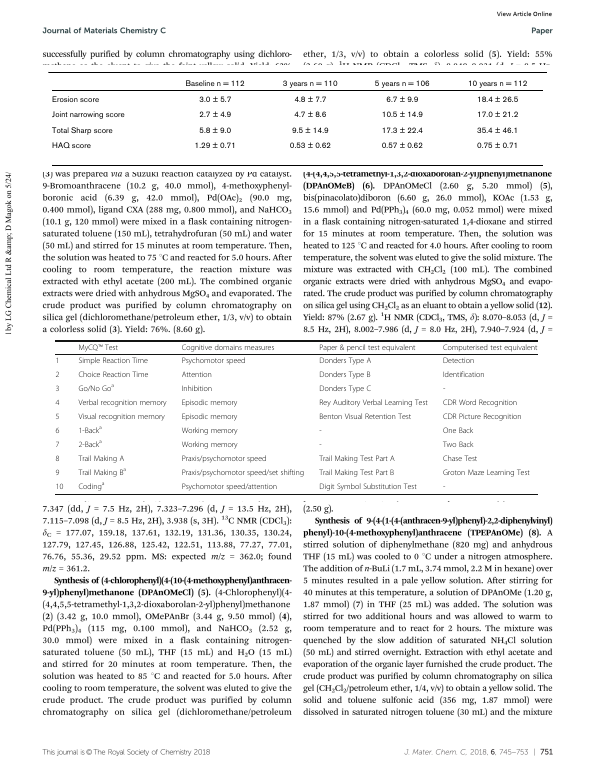borderless: (55, 339, 538, 494), (47, 70, 543, 165)
cell: (181, 468, 305, 478), (318, 398, 429, 408), (318, 482, 418, 492), (181, 482, 278, 492), (318, 412, 412, 422), (77, 398, 167, 408), (77, 412, 166, 422), (442, 468, 531, 478), (318, 343, 416, 352), (442, 343, 538, 352), (181, 454, 267, 464), (181, 343, 275, 352), (442, 412, 523, 422), (318, 454, 396, 464), (318, 468, 395, 478), (442, 398, 518, 408), (50, 111, 125, 121), (77, 356, 149, 366), (77, 370, 149, 380), (181, 356, 246, 366), (50, 126, 113, 136), (466, 79, 528, 89), (184, 79, 245, 89), (77, 466, 127, 478), (181, 426, 239, 436), (181, 440, 239, 450), (181, 398, 238, 408), (181, 412, 238, 422), (281, 79, 338, 89), (373, 79, 430, 89), (318, 356, 372, 366), (318, 384, 372, 394), (318, 370, 371, 380), (50, 95, 99, 105), (77, 454, 125, 464), (77, 382, 115, 394), (475, 95, 519, 105), (475, 111, 519, 121), (475, 126, 519, 136), (475, 142, 519, 152), (442, 370, 485, 380), (380, 111, 423, 121), (380, 126, 423, 136), (193, 142, 236, 152), (288, 142, 331, 152), (380, 142, 423, 152), (50, 142, 91, 152), (290, 126, 329, 136), (77, 343, 119, 352), (442, 454, 478, 464), (198, 95, 232, 105), (293, 95, 327, 105), (385, 95, 419, 105), (198, 111, 232, 121), (293, 111, 327, 121), (198, 126, 232, 136), (77, 480, 105, 492), (442, 356, 475, 366), (181, 370, 213, 380), (181, 384, 213, 394), (442, 426, 474, 436), (442, 440, 474, 450), (77, 424, 103, 436), (77, 438, 103, 450), (55, 482, 64, 492), (54, 356, 60, 366), (54, 370, 60, 380), (54, 384, 60, 394), (55, 398, 60, 408), (55, 412, 60, 422), (55, 426, 60, 436), (318, 426, 323, 436), (55, 440, 60, 450), (318, 440, 323, 450), (55, 454, 60, 464), (55, 468, 60, 478), (442, 384, 446, 394), (442, 482, 446, 492)
